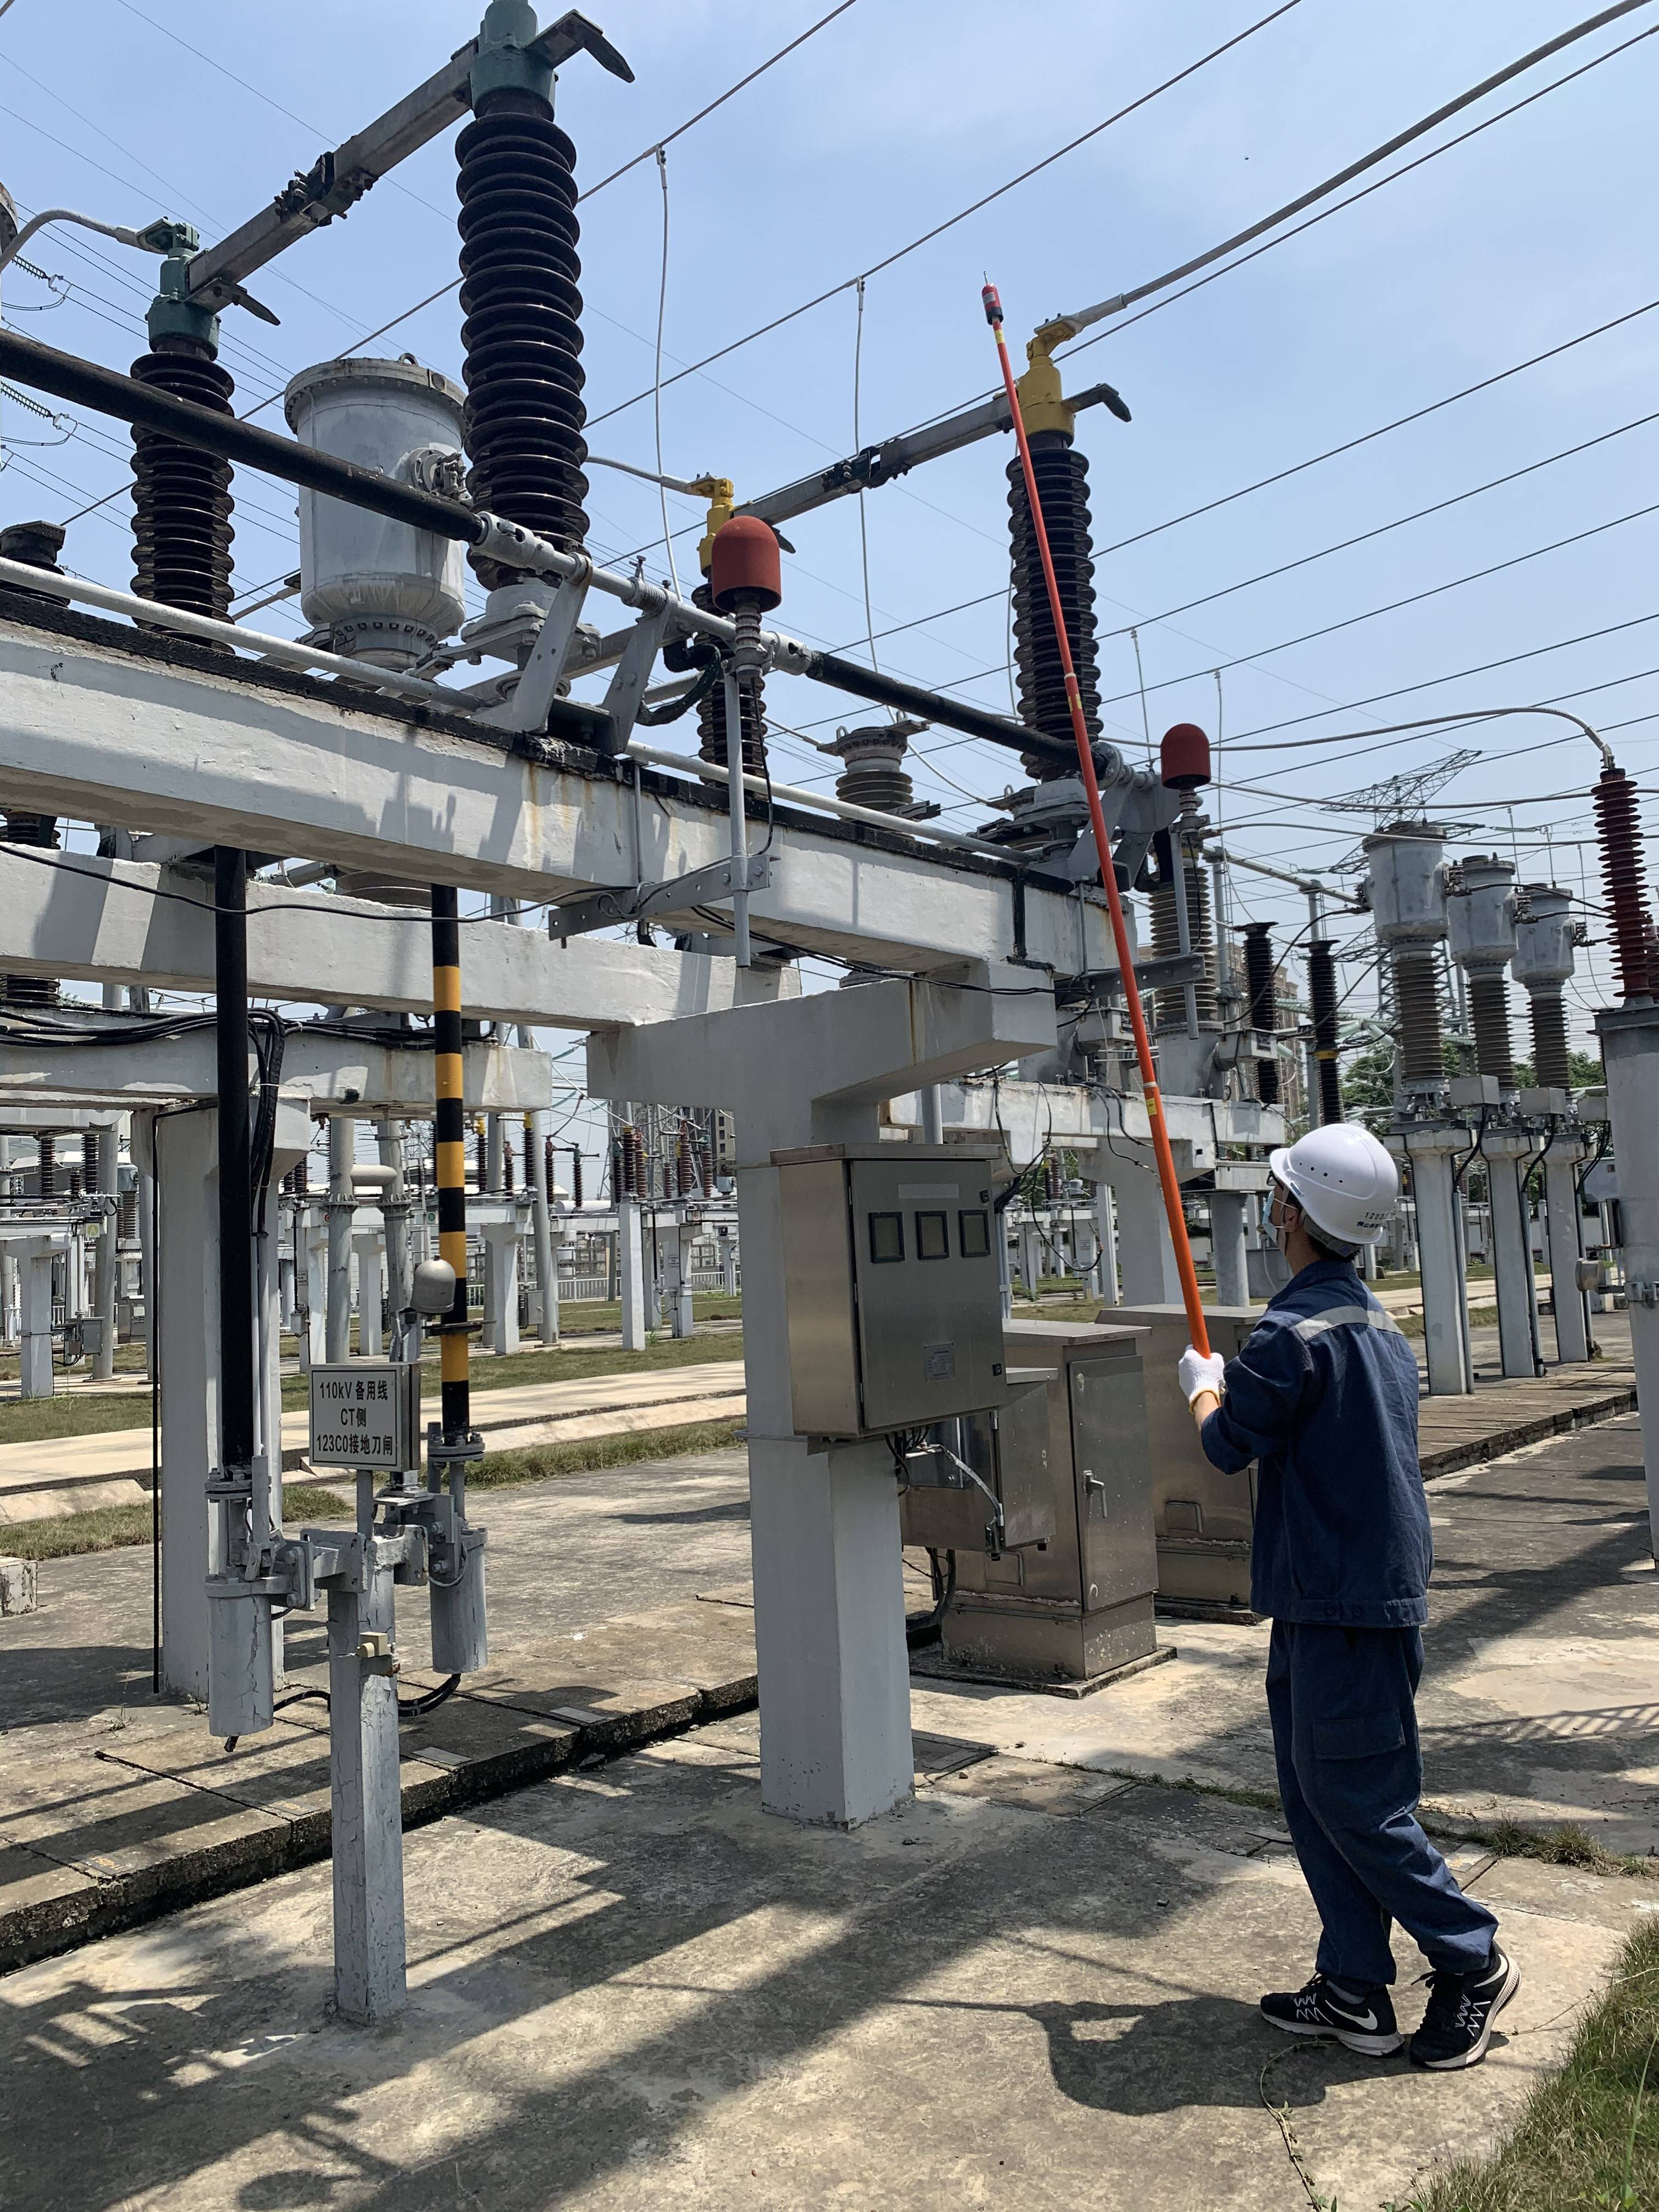downsuit: (1263, 1629, 1502, 1986)
upsuit: (1209, 1261, 1441, 1627)
wrongtop: (1188, 1385, 1229, 1470)
